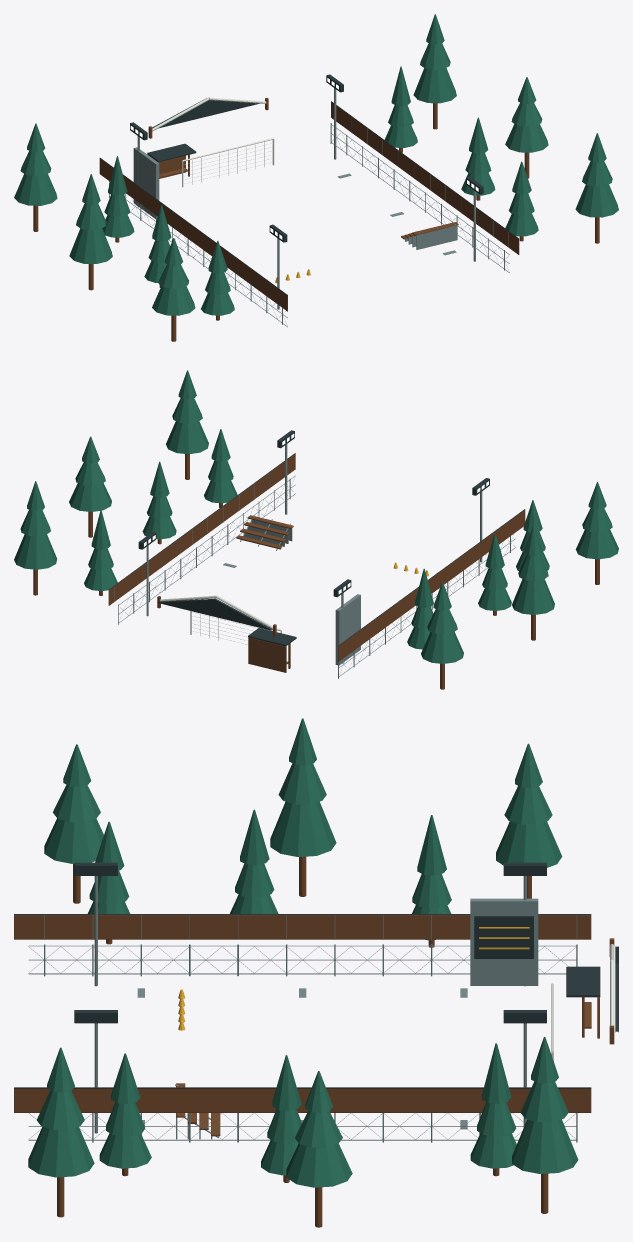
Rendered from salmon_creek_opening_foundry.glb.
3 renders of one model, top to bottom at view 1: azimuth 30°, elevation 25°; view 2: azimuth 150°, elevation 25°; view 3: azimuth 270°, elevation 25°, orthographic. The views are drawn at different scales.
Parts seen in each view (by area): view 1: OpeningKit_PNW_Evergreen, OpeningKit_Rain_Darkened_Cedar, OpeningKit_Rain_Municipal_Steel, OpeningKit_Storm_Charcoal, OpeningKit_Field_Cream, OpeningKit_Goal_Rope; view 2: OpeningKit_PNW_Evergreen, OpeningKit_Rain_Darkened_Cedar, OpeningKit_Rain_Municipal_Steel, OpeningKit_Storm_Charcoal, OpeningKit_Field_Cream; view 3: OpeningKit_PNW_Evergreen, OpeningKit_Rain_Darkened_Cedar, OpeningKit_Rain_Municipal_Steel, OpeningKit_Storm_Charcoal.
Boxes of the visible parts, x1,y1,x2,y2 form: OpeningKit_PNW_Evergreen: (14,14,618,315); OpeningKit_Rain_Darkened_Cedar: (33,97,599,341); OpeningKit_Rain_Municipal_Steel: (109,88,509,327); OpeningKit_Storm_Charcoal: (100,74,518,295); OpeningKit_Field_Cream: (152,97,274,187); OpeningKit_Goal_Rope: (183,142,272,186); OpeningKit_PNW_Evergreen: (14,370,618,663); OpeningKit_Rain_Darkened_Cedar: (33,454,599,689); OpeningKit_Rain_Municipal_Steel: (113,444,515,678); OpeningKit_Storm_Charcoal: (109,430,524,646); OpeningKit_Field_Cream: (160,595,281,634); OpeningKit_PNW_Evergreen: (28,718,578,1187); OpeningKit_Rain_Darkened_Cedar: (14,856,614,1227); OpeningKit_Rain_Municipal_Steel: (28,876,577,1142); OpeningKit_Storm_Charcoal: (14,862,618,1088).
Size of the model in its own units: 52.66 by 12.14 by 37.51.
